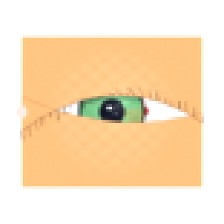hemorrhage_spot: (78, 78, 161, 144)
